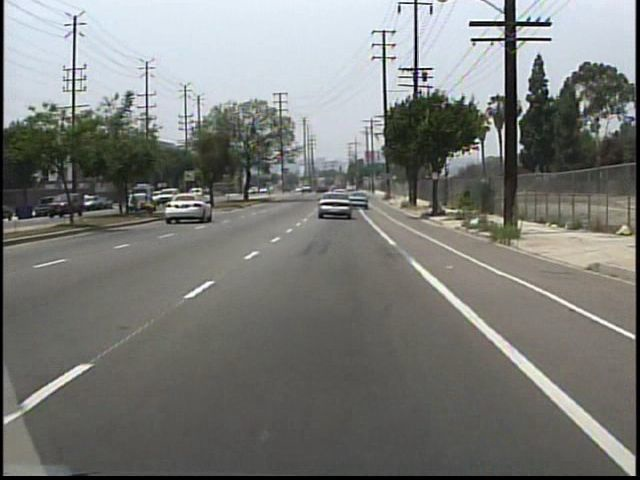person: (84, 192, 93, 213)
